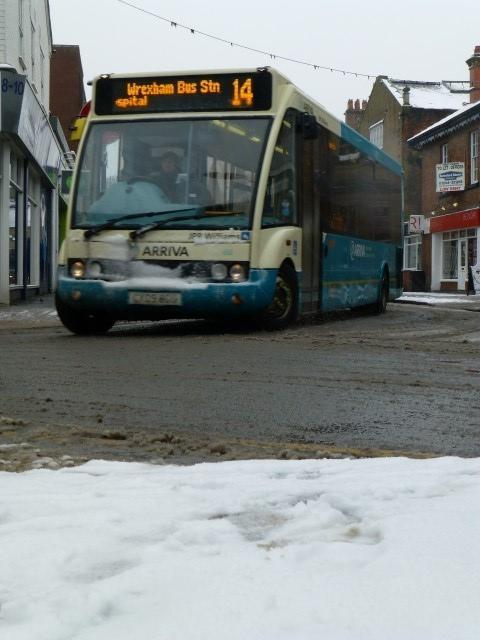bus: (58, 76, 418, 341)
